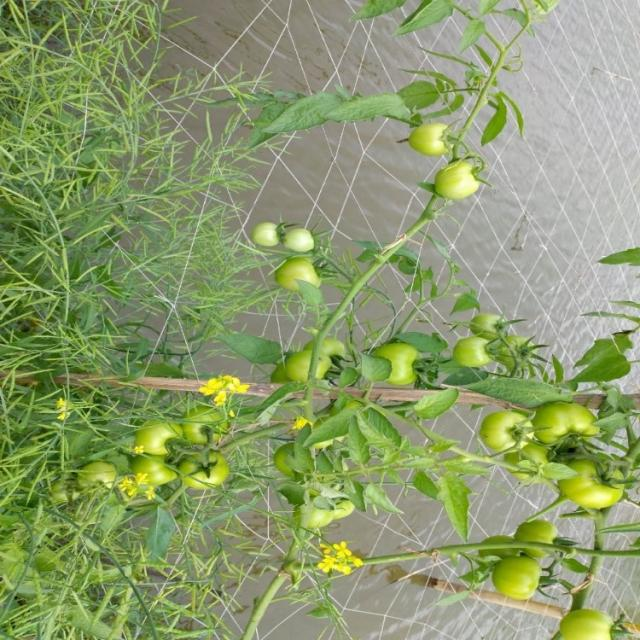tomato: (559, 447, 638, 529), (114, 413, 205, 468), (492, 550, 551, 620), (522, 391, 604, 436), (503, 439, 558, 498), (518, 510, 572, 567), (371, 340, 430, 387), (453, 335, 505, 388), (429, 162, 490, 207), (180, 444, 232, 494), (551, 602, 613, 640), (471, 408, 523, 452), (464, 304, 510, 353), (185, 401, 229, 450), (283, 340, 333, 383), (271, 259, 331, 290), (141, 440, 182, 483), (411, 118, 458, 153), (286, 222, 325, 264), (320, 326, 362, 360), (85, 452, 118, 488), (301, 503, 335, 537), (252, 215, 283, 244), (501, 338, 537, 362)
